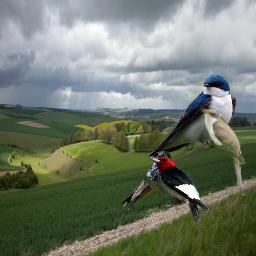Cuckoo: (198, 106, 247, 197)
Swallow: (147, 73, 236, 159), (118, 151, 173, 221)
Woodpecker: (146, 156, 210, 226)
